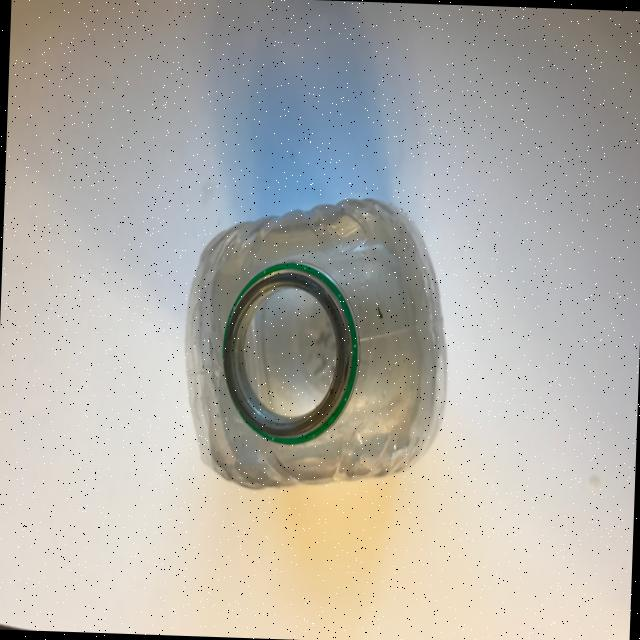plastic: (178, 189, 453, 496)
